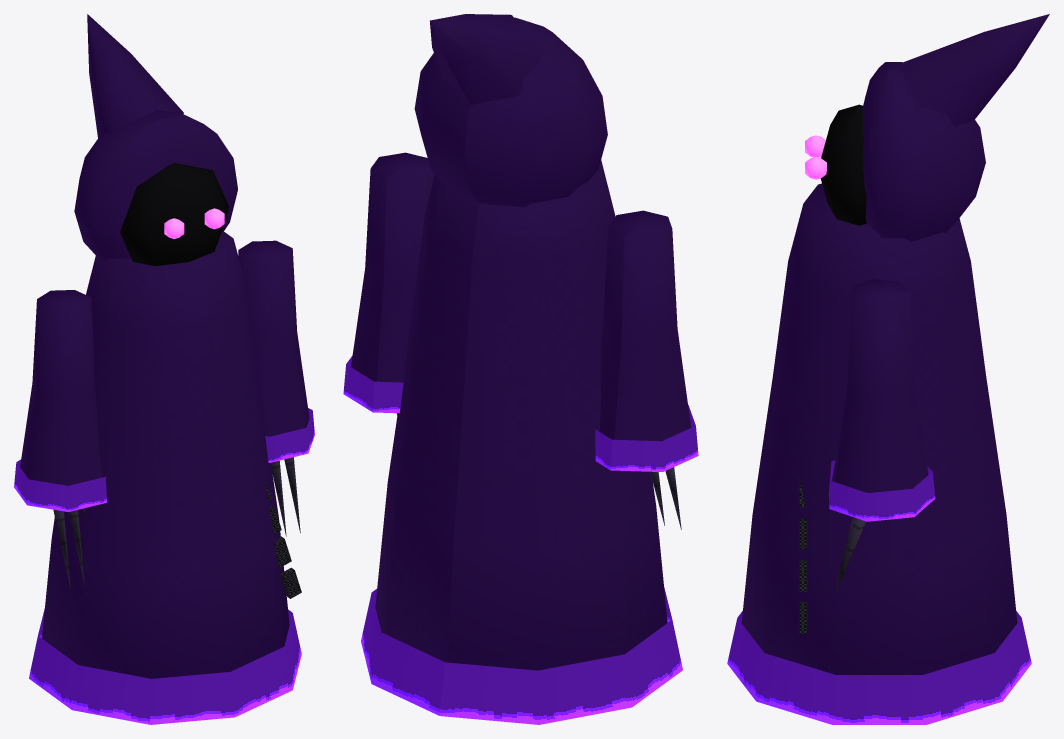
File: geist.glb
3 views of the same model, side by side, from view 1: azimuth 30°, elevation 25°; view 2: azimuth 150°, elevation 25°; view 3: azimuth 270°, elevation 25° (orthographic). The views are drawn at different scales.
Parts seen in each view (by area): view 1: robeG, hemG, sleeveG-1, hoodG, sleeveG1, voidFace, hoodTipG, cuffG-1, cuffG1; view 2: robeG, hoodG, hemG, sleeveG-1, sleeveG1, hoodTipG, cuffG-1, cuffG1; view 3: robeG, hemG, hoodG, sleeveG1, hoodTipG, voidFace, cuffG1, claw12.
Part boxes in pixels (x1,y1,x2,y2): robeG: (42, 231, 289, 678); hemG: (29, 608, 301, 724); sleeveG-1: (20, 290, 101, 485); hoodG: (74, 111, 237, 261); sleeveG1: (238, 240, 309, 436); voidFace: (120, 163, 228, 266); hoodTipG: (87, 14, 183, 137); cuffG-1: (14, 459, 106, 511); cuffG1: (265, 408, 314, 462); robeG: (375, 160, 667, 670); hoodG: (414, 17, 607, 207); hemG: (361, 588, 682, 724); sleeveG-1: (599, 210, 691, 441); sleeveG1: (351, 152, 434, 382); hoodTipG: (430, 14, 543, 104); cuffG-1: (595, 405, 698, 471); cuffG1: (343, 355, 403, 413); robeG: (741, 183, 1017, 674); hemG: (727, 611, 1031, 724); hoodG: (862, 62, 985, 241); sleeveG1: (833, 279, 928, 492); hoodTipG: (899, 14, 1049, 126); voidFace: (820, 104, 866, 225); cuffG1: (829, 460, 935, 521); claw12: (835, 518, 865, 593).
Bounding box in the file's own units: 1.43 × 2.97 × 1.27.
6 materials, 4 textured.
